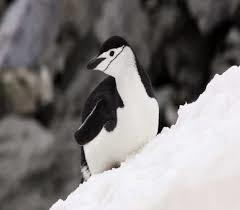chinstrap: (67, 28, 173, 187)
